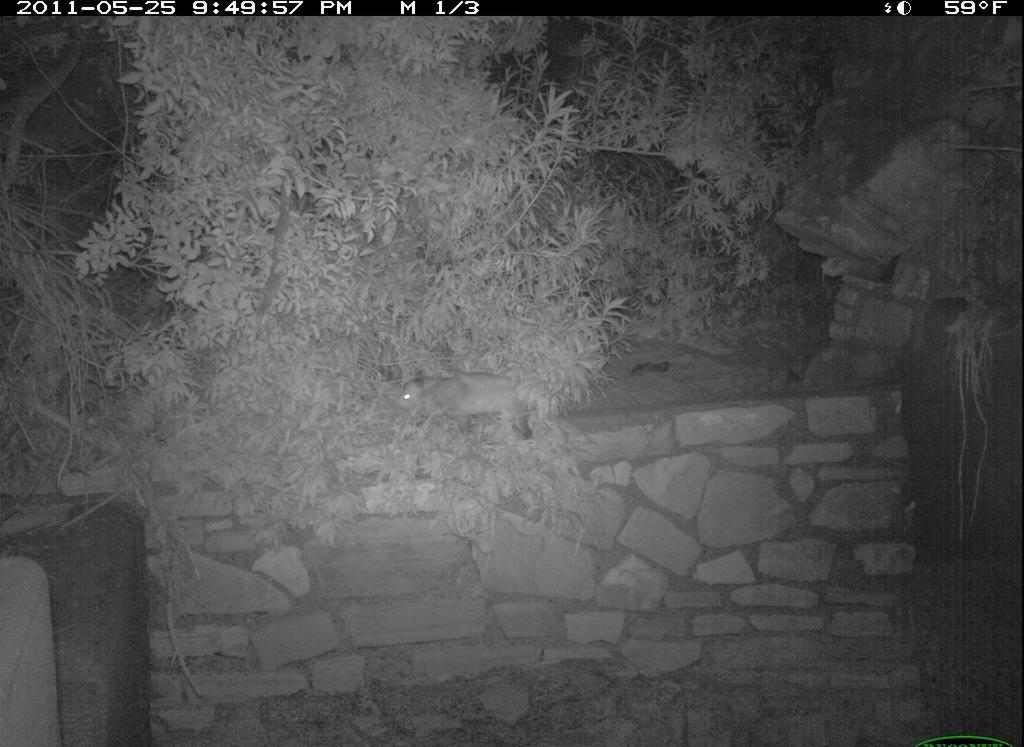opossum: (386, 353, 560, 447)
